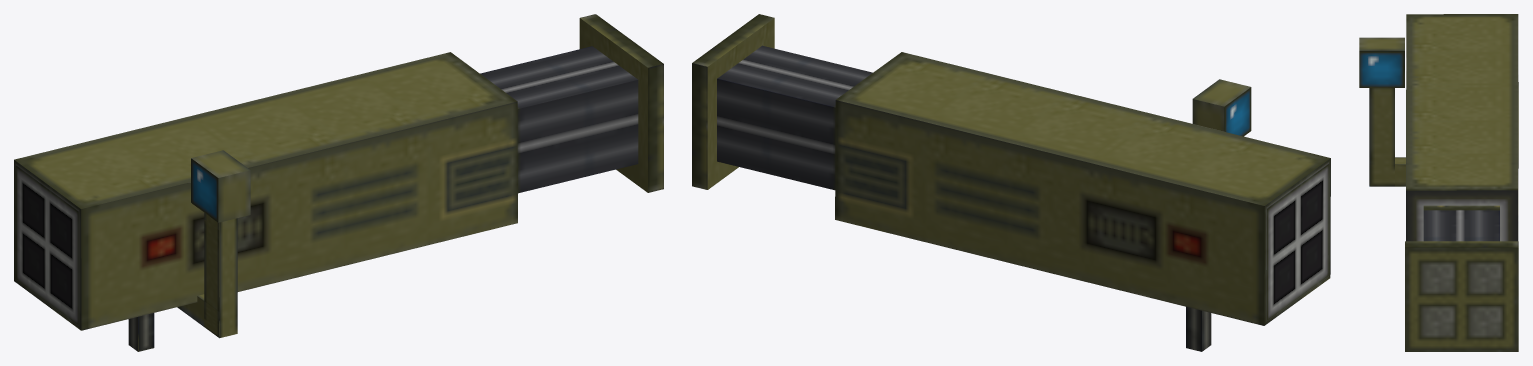
File: BGN_DESTRUCTION .fbx
3 renders of one model, left to right at view 1: azimuth 30°, elevation 25°; view 2: azimuth 150°, elevation 25°; view 3: azimuth 270°, elevation 25°, orthographic. The views are drawn at different scales.
Visible parts, largest first — view 1: BGN_DESTRUCTION_, RELOADER, SCOPE, GRIP; view 2: BGN_DESTRUCTION_, RELOADER, SCOPE, GRIP; view 3: BGN_DESTRUCTION_, RELOADER, SCOPE.
Part boxes in pixels (x1=…): BGN_DESTRUCTION_: x1=14, y1=52, x2=517, y2=330; RELOADER: x1=480, y1=14, x2=663, y2=193; SCOPE: x1=177, y1=150, x2=250, y2=338; GRIP: x1=128, y1=313, x2=154, y2=351; BGN_DESTRUCTION_: x1=835, y1=52, x2=1330, y2=325; RELOADER: x1=692, y1=14, x2=872, y2=190; SCOPE: x1=1192, y1=79, x2=1251, y2=136; GRIP: x1=1186, y1=307, x2=1211, y2=351; BGN_DESTRUCTION_: x1=1406, y1=14, x2=1518, y2=241; RELOADER: x1=1405, y1=205, x2=1518, y2=351; SCOPE: x1=1359, y1=37, x2=1405, y2=186.
Size of the model in its own units: 201 by 70.3 by 57.07.
1 material, 1 textured.
